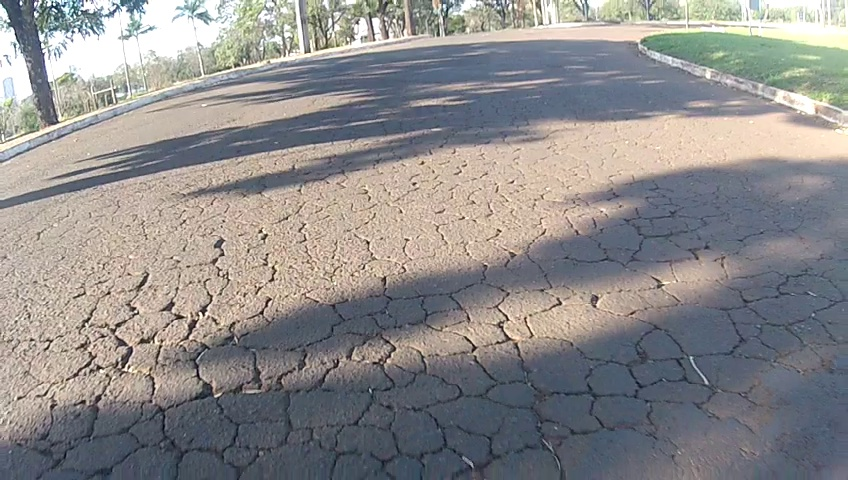trinca: (80, 238, 790, 480)
